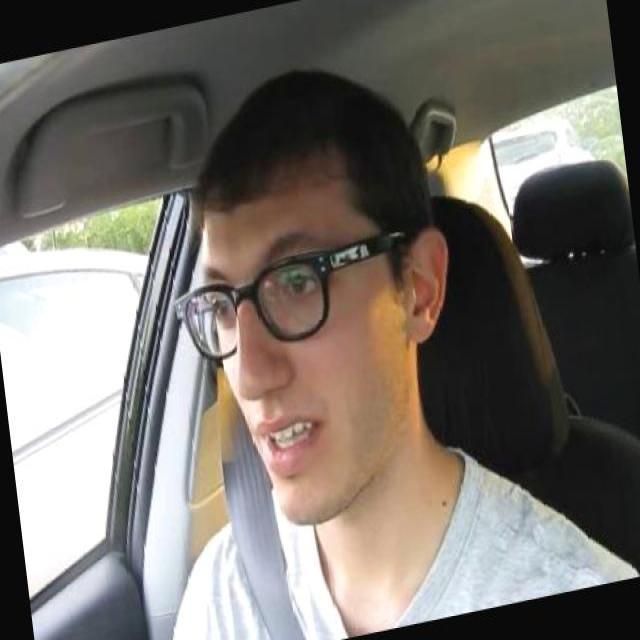seatbelt: (174, 341, 322, 640)
